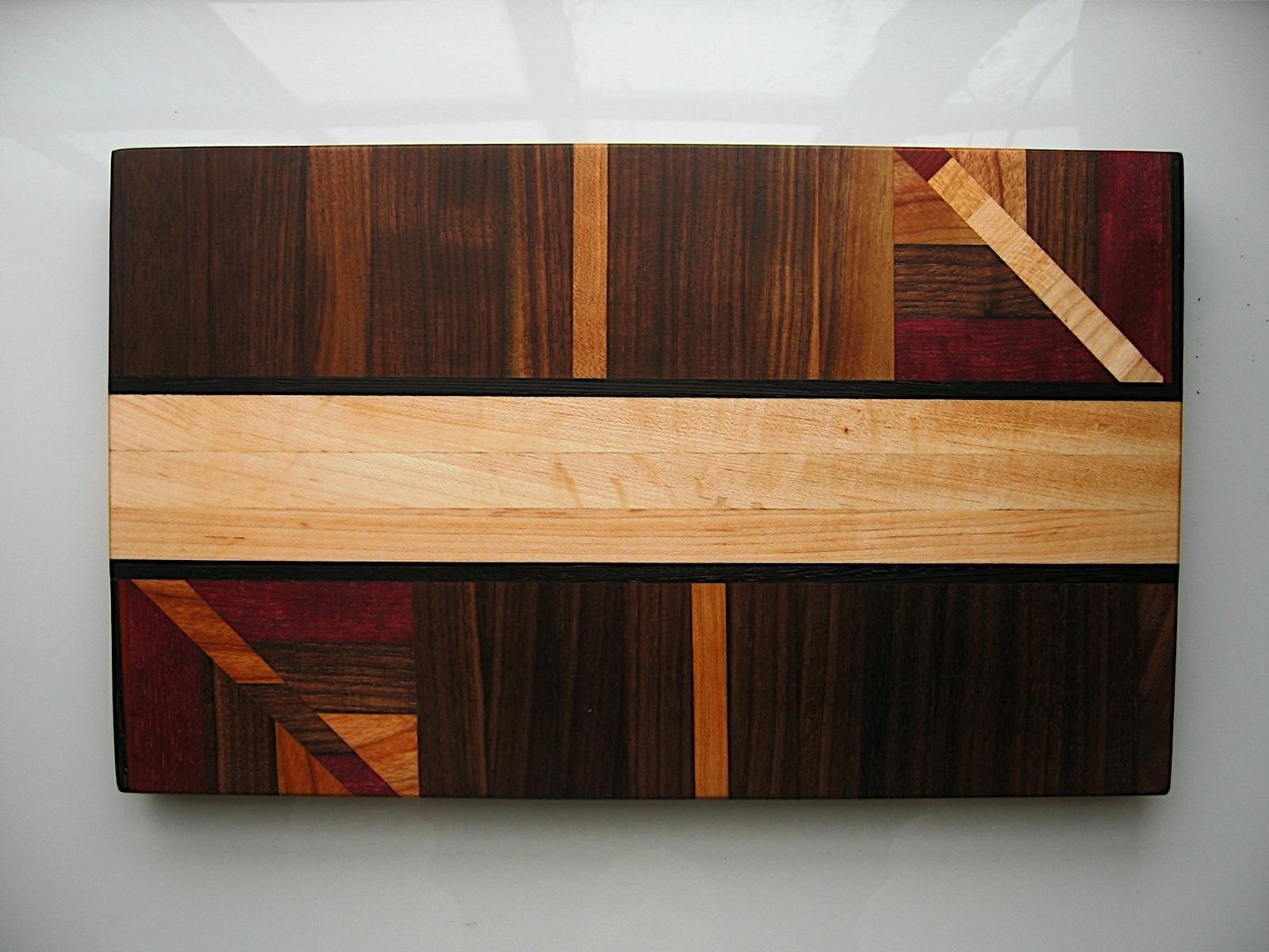gloved_hand: (94, 125, 1195, 818)
